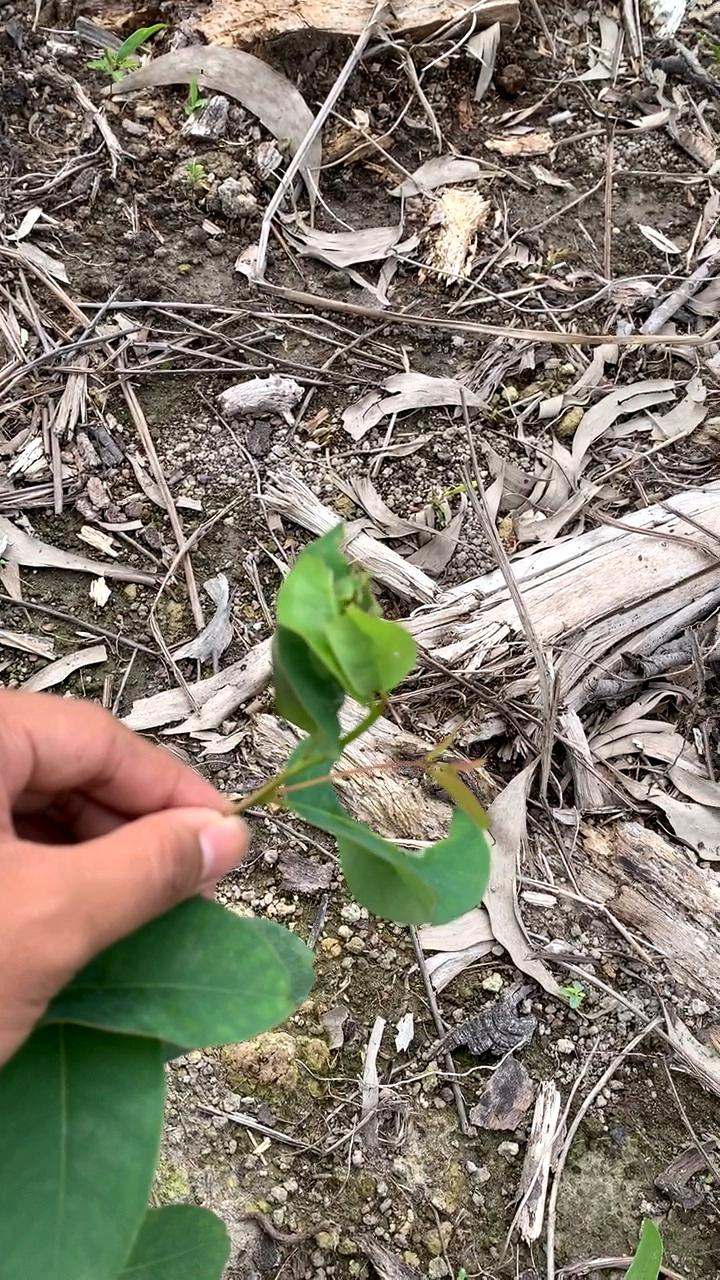Leaf Roller - Leaf: (260, 518, 431, 769)
